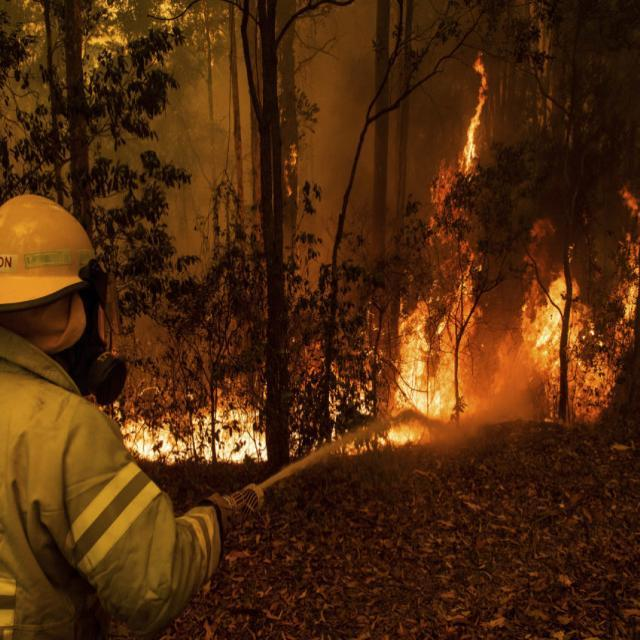Fire: (376, 250, 486, 453), (568, 190, 640, 428), (432, 52, 488, 213), (120, 419, 212, 462), (536, 275, 566, 403), (216, 410, 265, 462), (282, 132, 299, 216)
